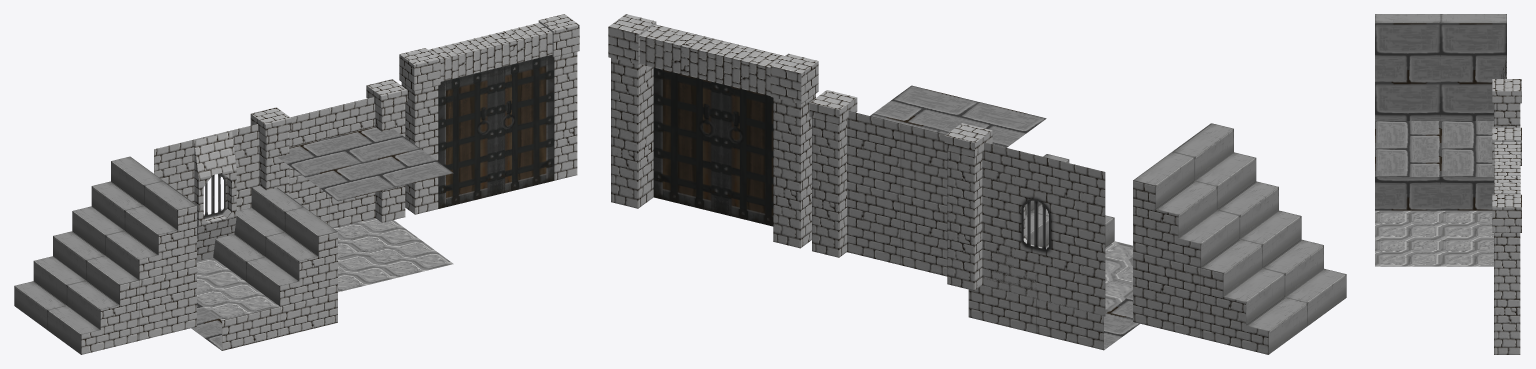
The model's file is StoneInteriorTileset.fbx.
The picture shows the model from 3 angles, left to right: view 1: azimuth 30°, elevation 25°; view 2: azimuth 150°, elevation 25°; view 3: azimuth 270°, elevation 25°; orthographic projection. The views are drawn at different scales.
Parts seen in each view (by area): view 1: stone2x2Stairs, stoneDoorFrame, stone1x1Stairs, stoneWindow, doorRight, doorLeft, stoneFloor, stoneWall, StonePlatformHalf, stoneCeiling, ceilingHalf, stonePillar2 (+2 smaller); view 2: stone2x2Stairs, stoneDoorFrame, stoneWindow, stoneWall, doorRight, doorLeft, stonePillar1, stonePillar2, StonePlatformEdge, stone1x1Stairs, stoneCeiling, StonePlatformHalf (+2 smaller); view 3: stone2x2Stairs, stoneFloor, stoneDoorFrame, stone1x1Stairs, ceilingHalf, stoneCeiling, stonePillar1.
Boxes of the visible parts, left/top/right/bottom form: stone2x2Stairs: left=14, top=156, right=196, bottom=354; stoneDoorFrame: left=399, top=14, right=579, bottom=214; stone1x1Stairs: left=213, top=185, right=337, bottom=306; stoneWindow: left=154, top=124, right=259, bottom=261; doorRight: left=496, top=54, right=554, bottom=194; doorLeft: left=438, top=68, right=496, bottom=208; stoneFloor: left=333, top=218, right=453, bottom=292; stoneWall: left=289, top=97, right=375, bottom=227; StonePlatformHalf: left=191, top=259, right=279, bottom=350; stoneCeiling: left=329, top=127, right=453, bottom=195; ceilingHalf: left=278, top=138, right=395, bottom=201; stonePillar2: left=366, top=79, right=407, bottom=222; stone2x2Stairs: left=1133, top=123, right=1346, bottom=354; stoneDoorFrame: left=608, top=14, right=818, bottom=248; stoneWindow: left=982, top=142, right=1105, bottom=316; stoneWall: left=847, top=111, right=947, bottom=276; doorRight: left=653, top=67, right=721, bottom=213; doorLeft: left=721, top=84, right=773, bottom=226; stonePillar1: left=944, top=123, right=992, bottom=290; stonePillar2: left=809, top=90, right=857, bottom=257; StonePlatformEdge: left=968, top=285, right=1103, bottom=349; stone1x1Stairs: left=982, top=154, right=1114, bottom=297; stoneCeiling: left=870, top=85, right=1045, bottom=146; StonePlatformHalf: left=1036, top=241, right=1139, bottom=350; stone2x2Stairs: left=1375, top=14, right=1506, bottom=120; stoneFloor: left=1375, top=210, right=1493, bottom=266; stoneDoorFrame: left=1492, top=127, right=1521, bottom=354; stone1x1Stairs: left=1375, top=177, right=1493, bottom=210; ceilingHalf: left=1375, top=121, right=1506, bottom=148; stoneCeiling: left=1375, top=149, right=1493, bottom=176; stonePillar1: left=1492, top=79, right=1521, bottom=127.
Size of the model in its own units: 962 by 298 by 222.
Materials: 1 (1 with a texture image).
